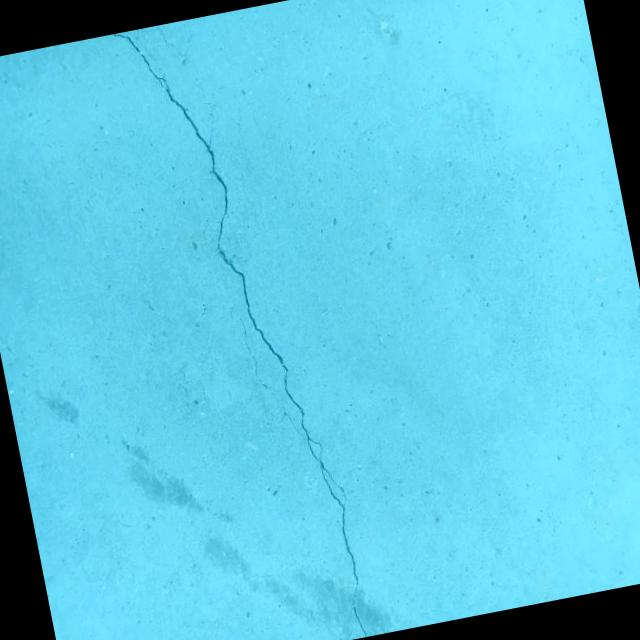crack: (113, 7, 374, 640), (134, 19, 206, 110)
